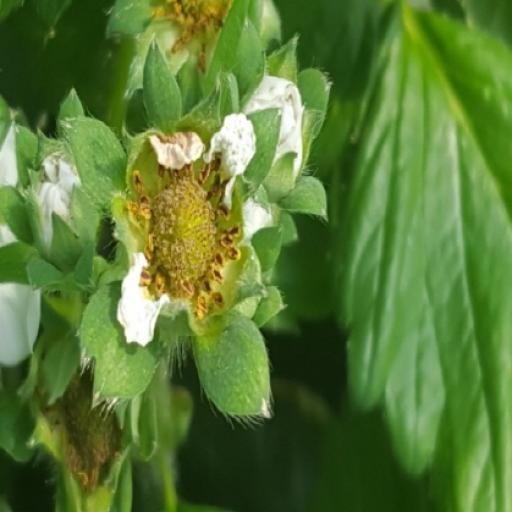Blossom Blight: (264, 134, 392, 323)
